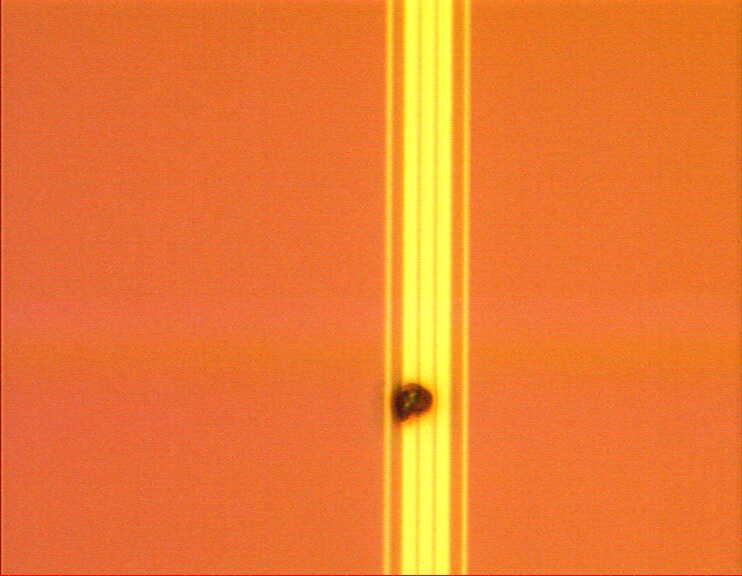PIQ PARTICLE: (379, 369, 447, 437)
